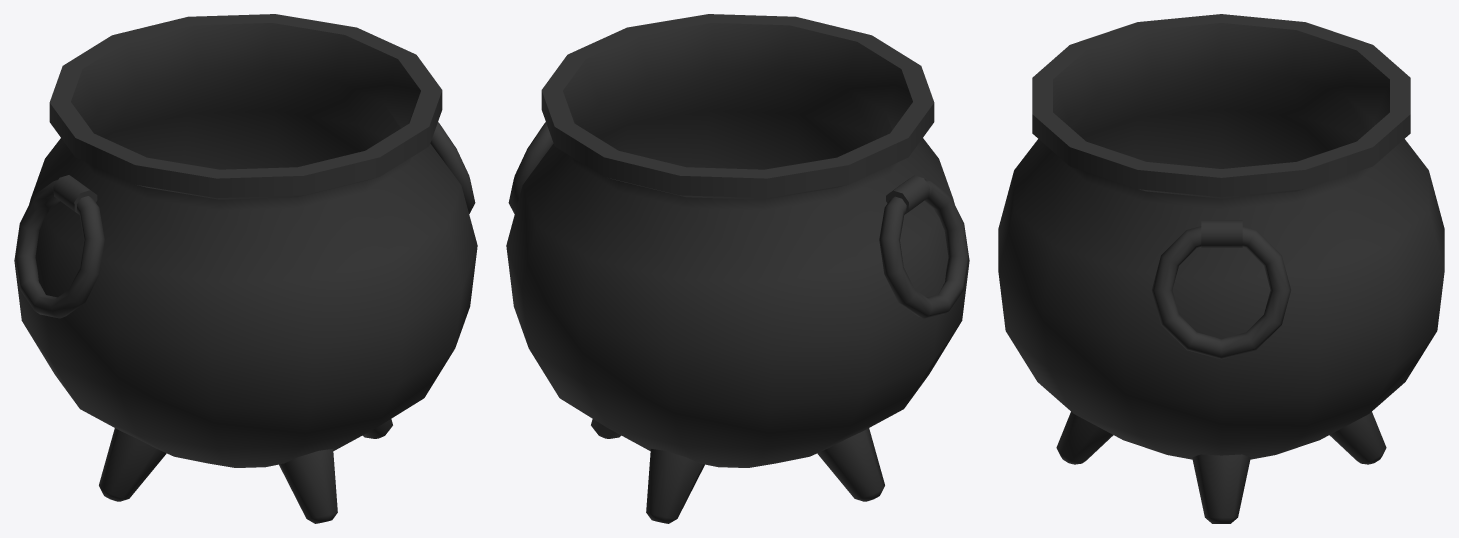
The model's file is Cauldron_01.fbx.
3 renders of one model, left to right at view 1: azimuth 30°, elevation 25°; view 2: azimuth 150°, elevation 25°; view 3: azimuth 270°, elevation 25°, orthographic.
Parts seen in each view (by area): view 1: Cauldron_01; view 2: Cauldron_01; view 3: Cauldron_01.
Boxes of the visible parts, x1=… form: Cauldron_01: x1=14, y1=14, x2=477, y2=523; Cauldron_01: x1=506, y1=14, x2=969, y2=523; Cauldron_01: x1=998, y1=14, x2=1444, y2=523.
Bounding box in the file's own units: 0.3459 × 0.2919 × 0.3217.
